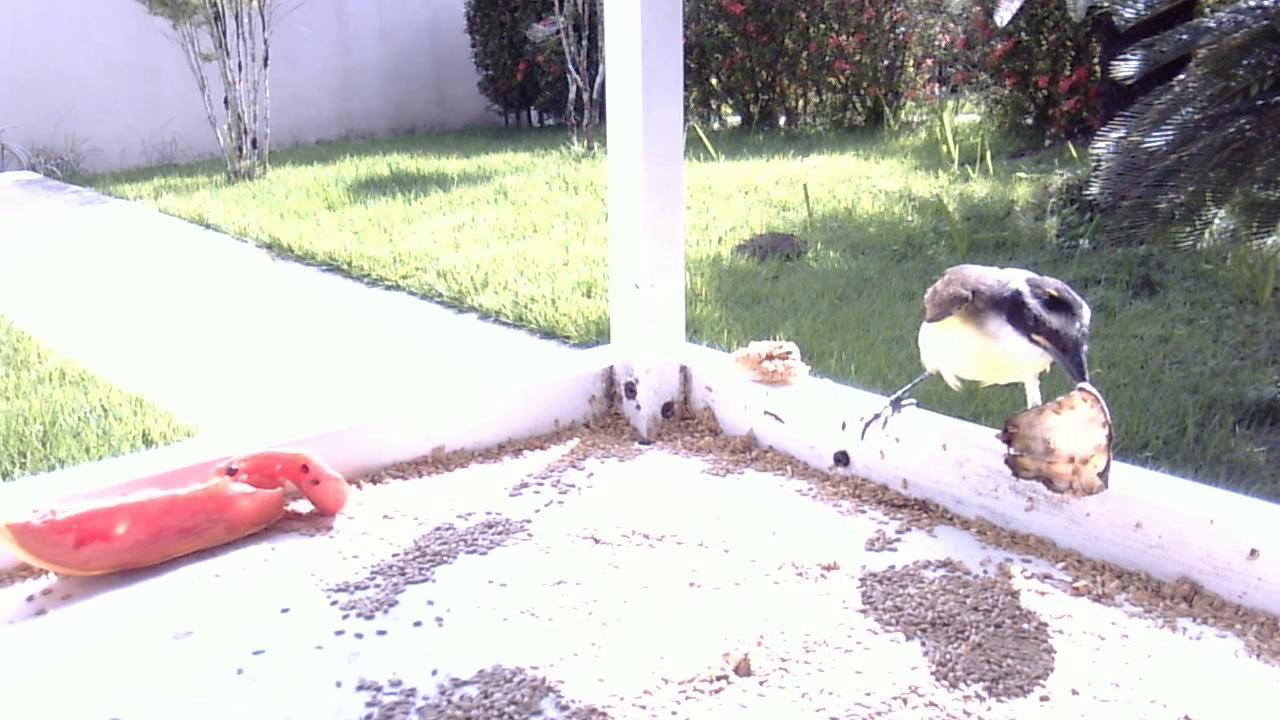bem_te_vi: (858, 252, 1097, 451)
